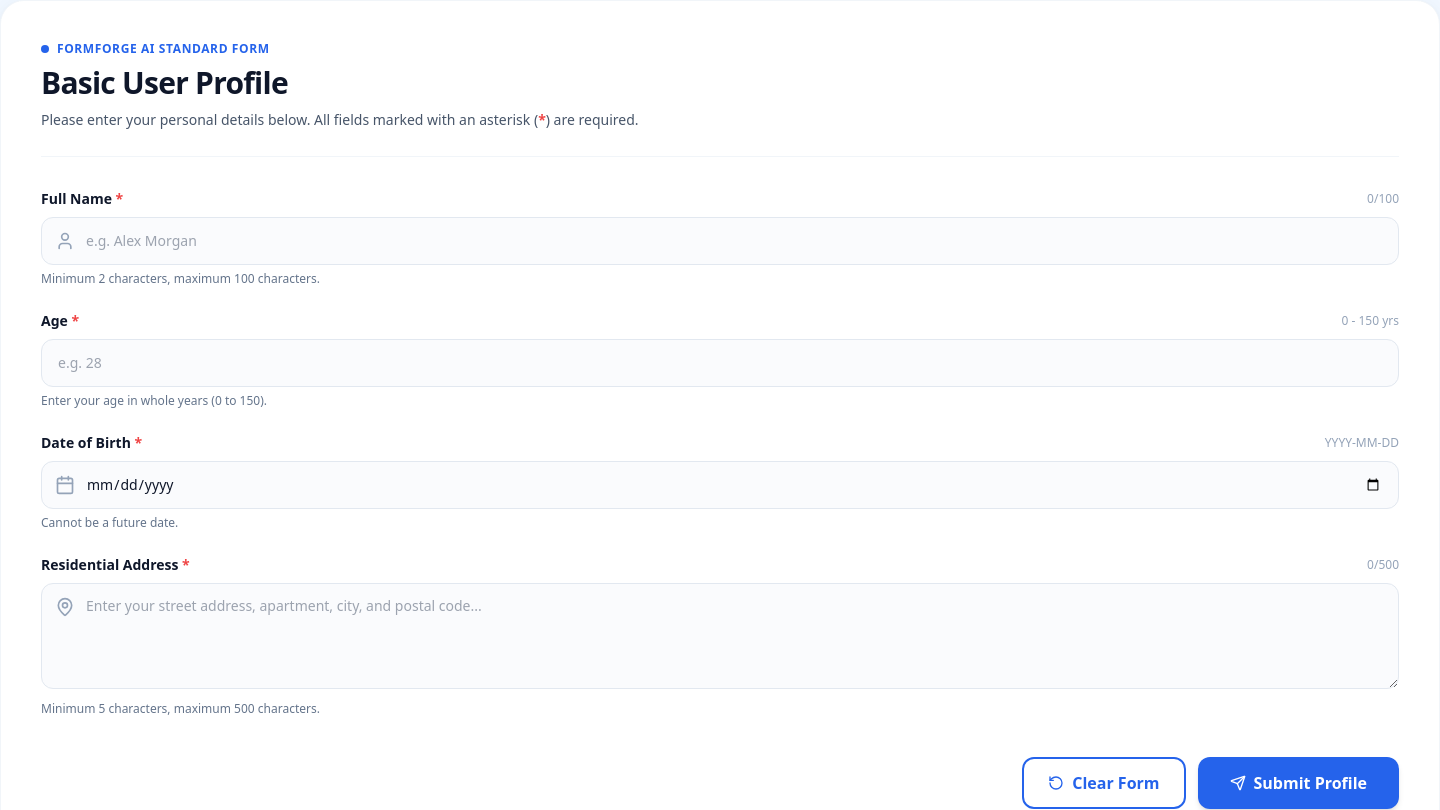
Test: UserProfileForm Component Tests › handles successful form submission and presents accessible success state
The image size is (1440, 810).
Type "Johnathan Swift" into the field labelled "Full Name *".
click(720, 241); type("Johnathan Swift")  # box [41, 217, 1399, 265]
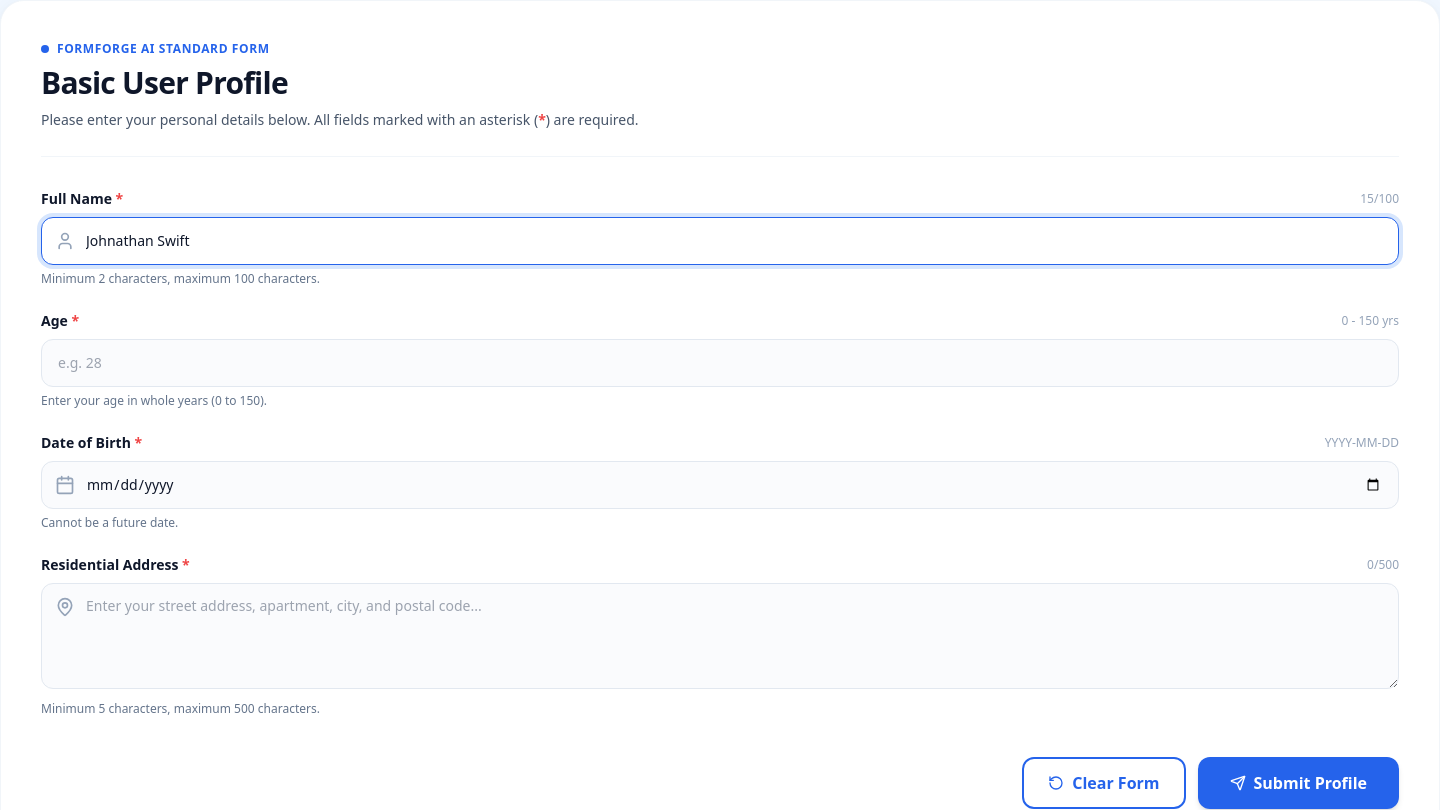
Type "32" into the number field labelled "Age *".
click(720, 363); type("32")  # box [41, 339, 1399, 387]
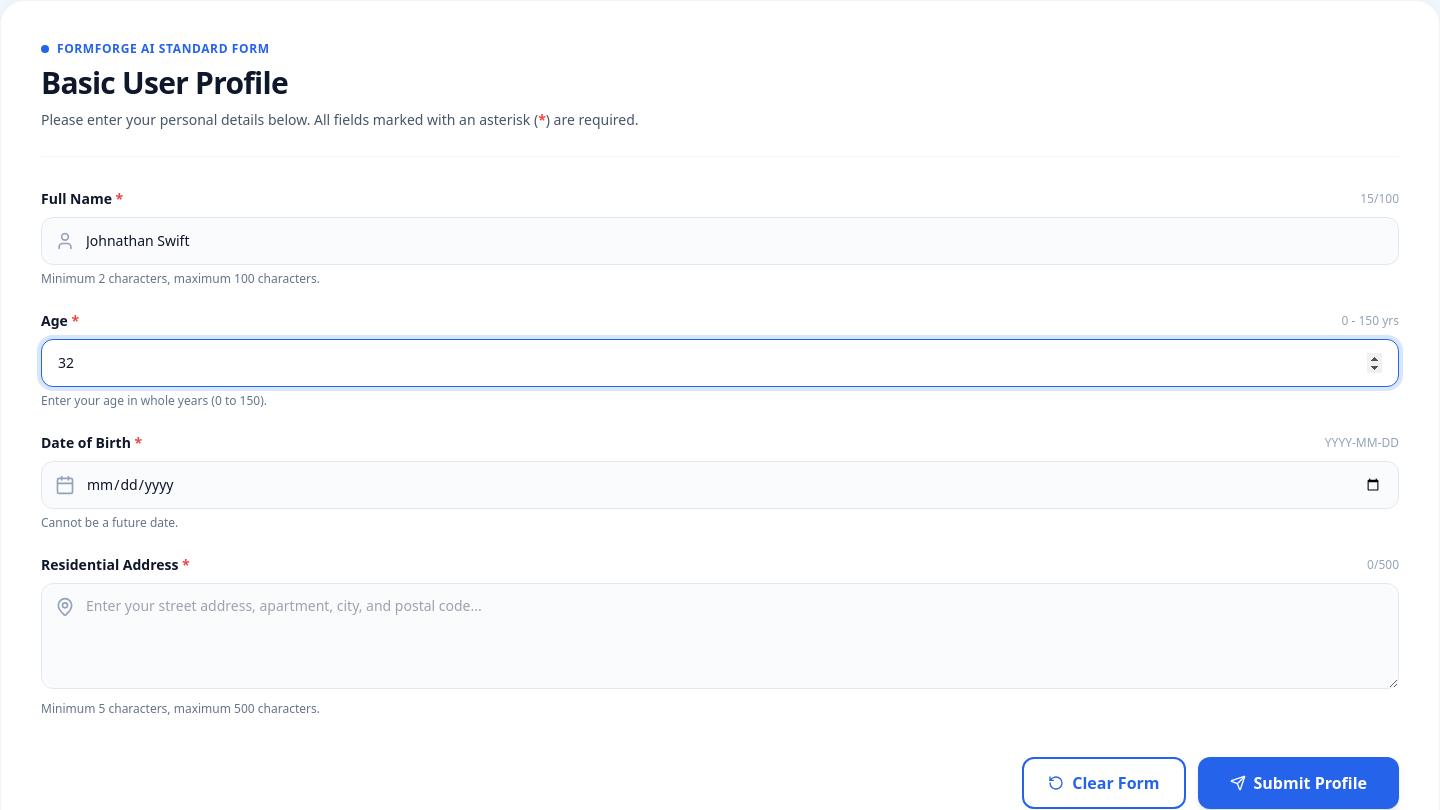
Type "1992-05-18" into the date field labelled "Date of Birth *".
click(720, 485); type("1992-05-18")  # box [41, 461, 1399, 509]
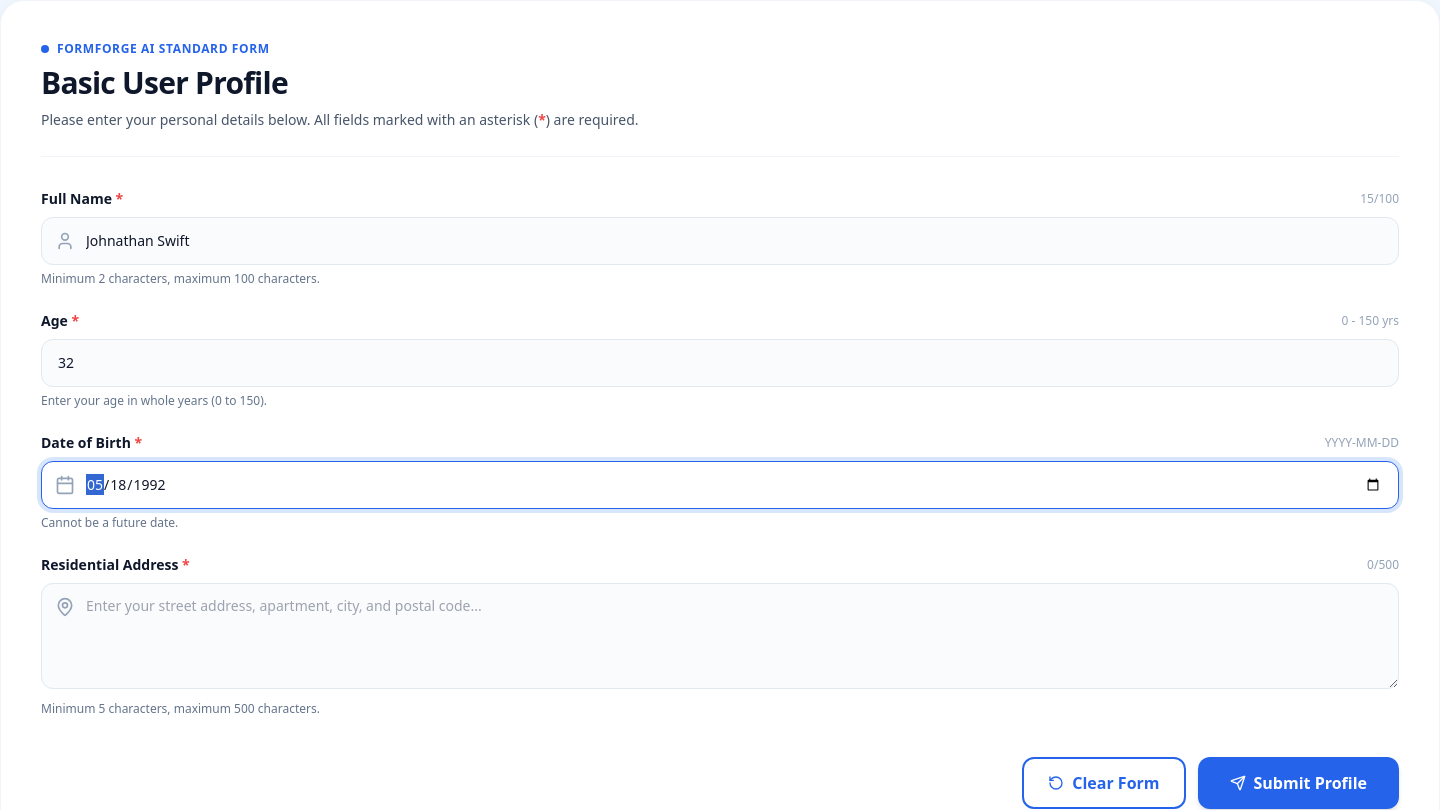
Type "789 Pine Road, Apt 2B, Metropolis" into the text box labelled "Residential Address *".
click(720, 636); type("789 Pine Road, Apt 2B, Metropolis")  # box [41, 583, 1399, 689]
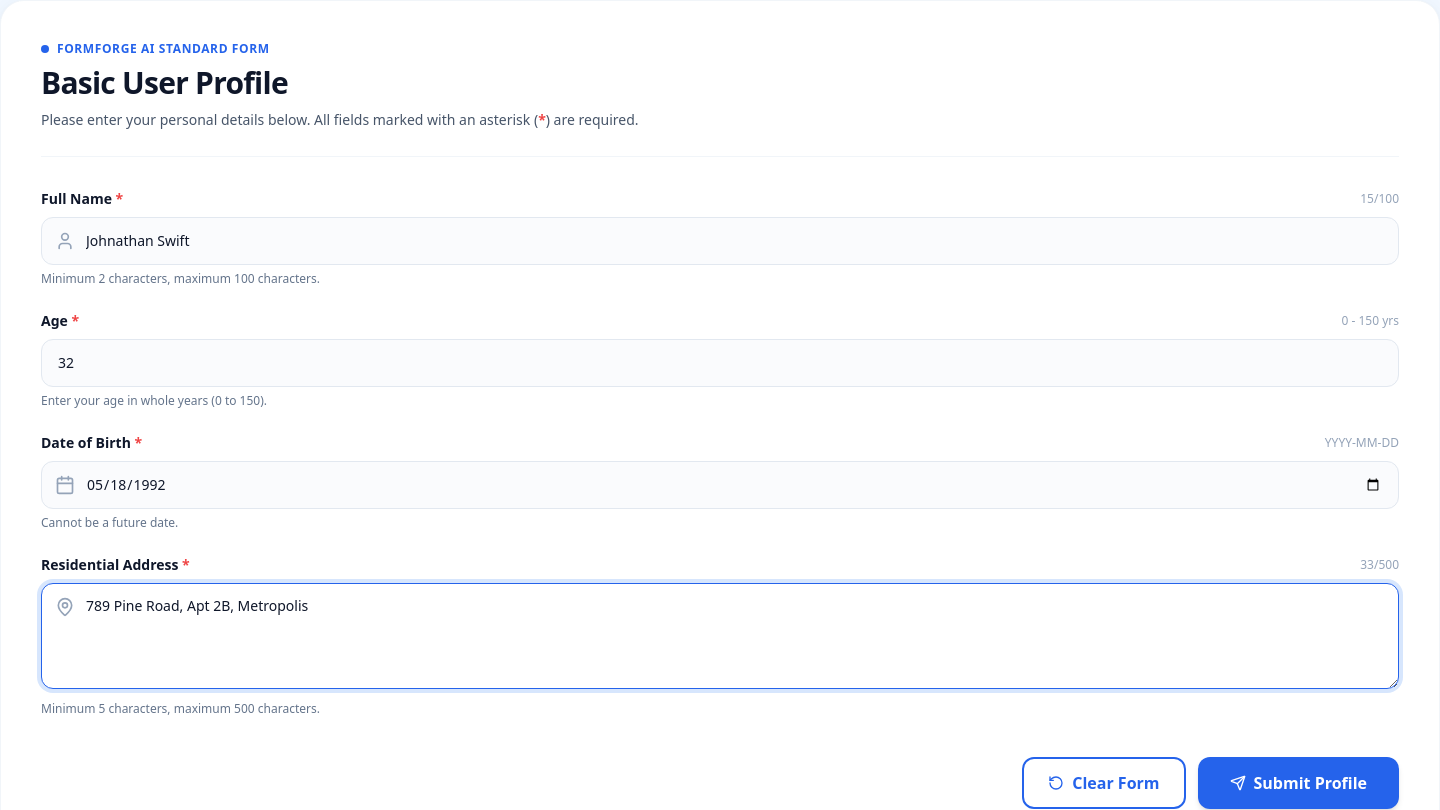
Click the button "Submit Profile".
click(1298, 783)  # box [1198, 757, 1399, 809]
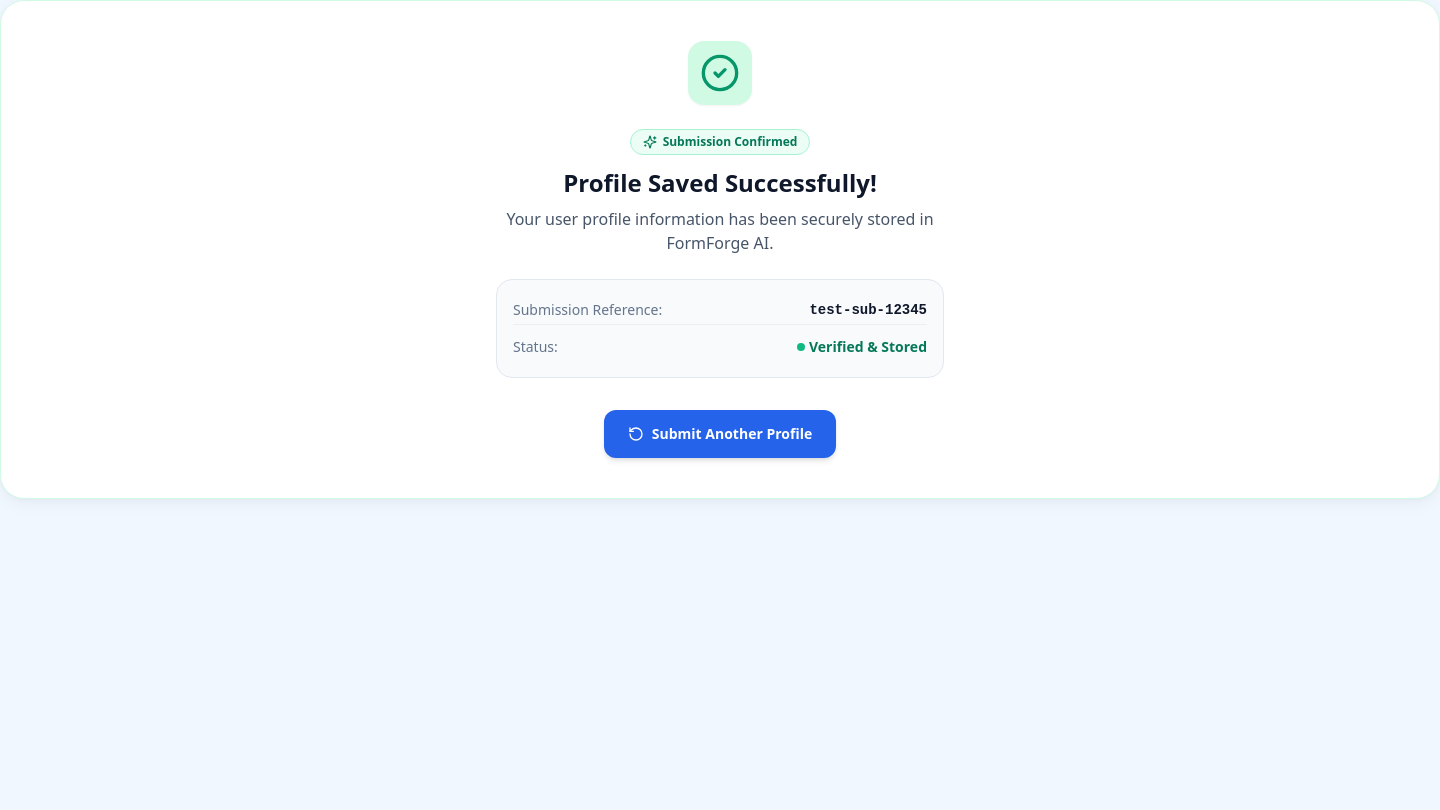
Check: the message is shown
Check: the heading "Profile Saved Successfully!" is shown, box [563, 166, 877, 199]
Check: the text "test-sub-12345" is shown, box [809, 300, 927, 320]
